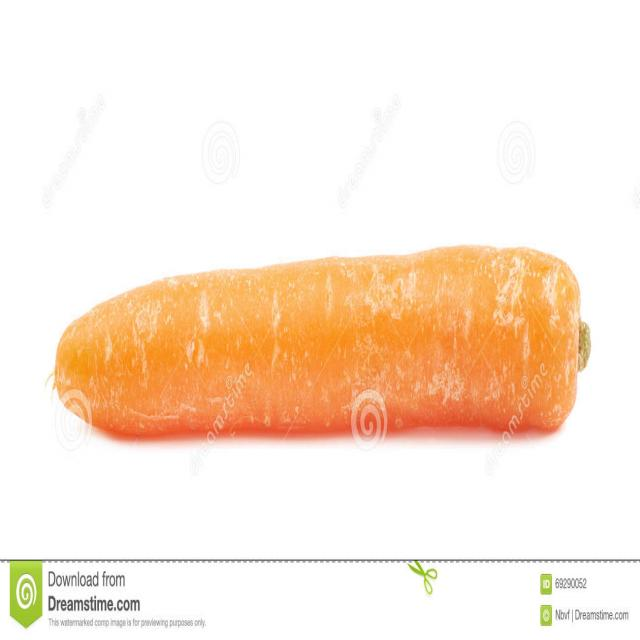Carrot: (55, 242, 596, 449)
